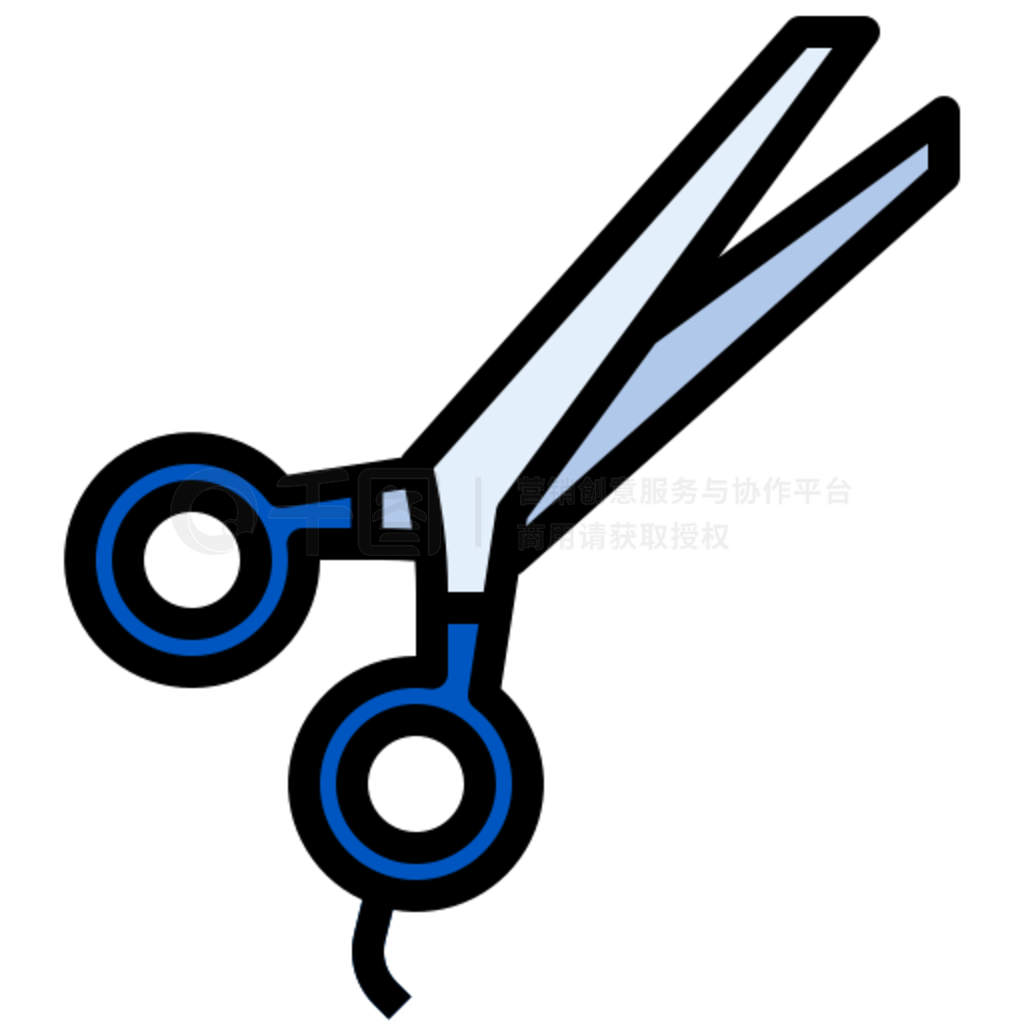scissors: (60, 10, 1006, 1024)
